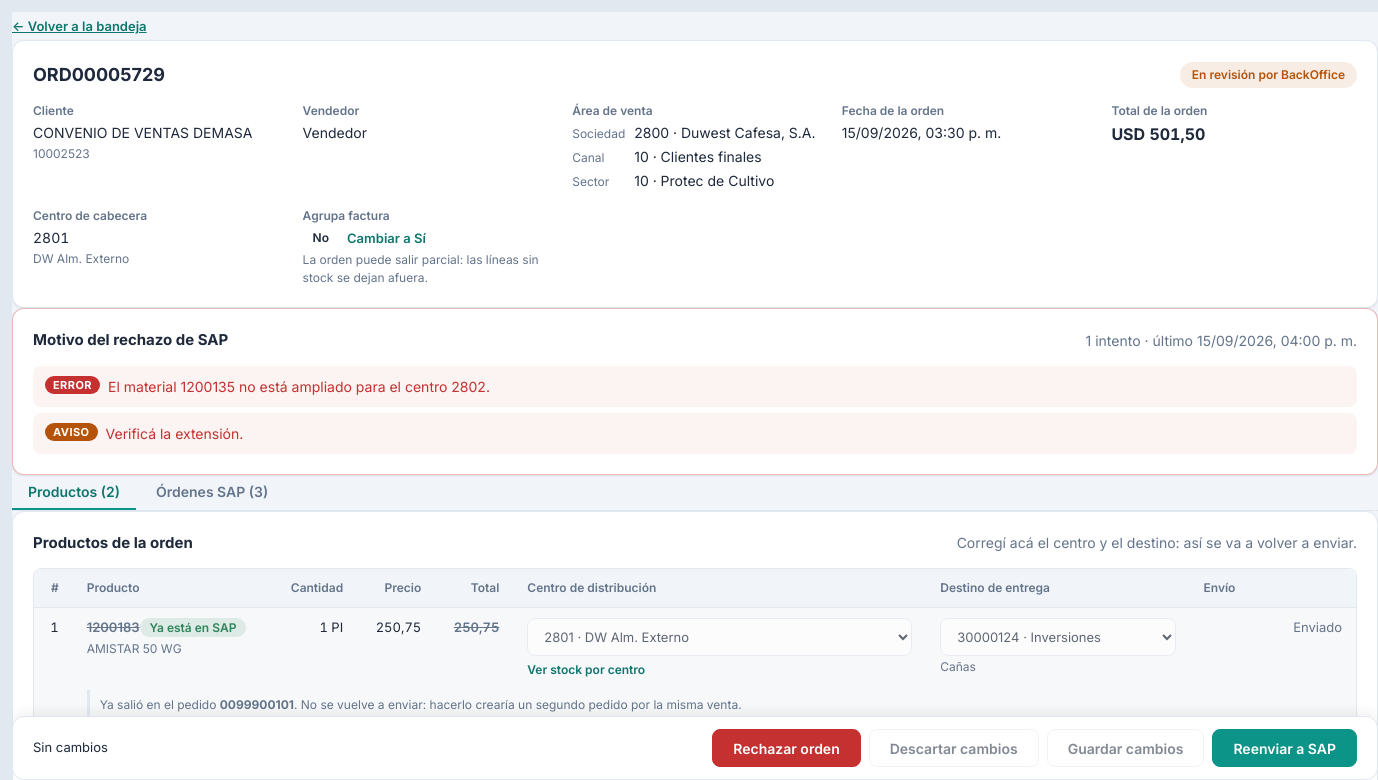
Test: ReviewOrderDetail › las órdenes SAP se separan por intento › el intento más nuevo arranca abierto y los viejos plegados
Check: the heading "ORD00005729" is shown, box 33,61 -> 165,88
Step 1. Click the tab "Órdenes SAP (3)" → coordinates (212, 492), box 140,474 -> 284,510
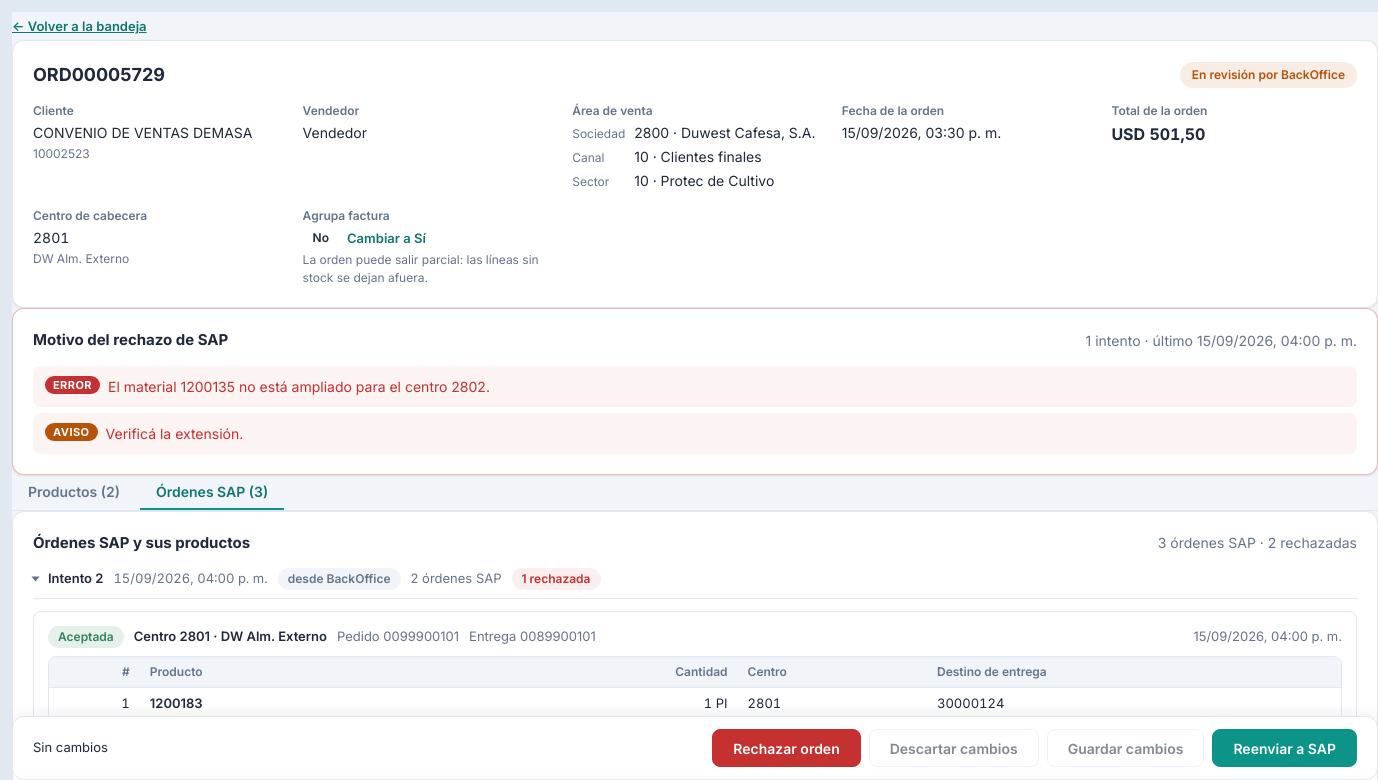
Check: the number of elements with class "bo-rs__sap-attempt" is 2
